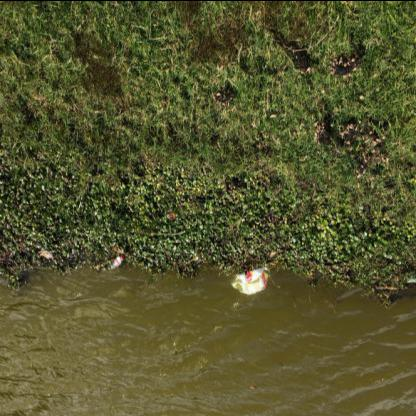Bottle: (121, 256, 124, 260)
Bottle cap: (110, 256, 124, 268)
Plastic bag - wrapper: (231, 266, 269, 294)
Unlabeled litter: (407, 275, 415, 282)
